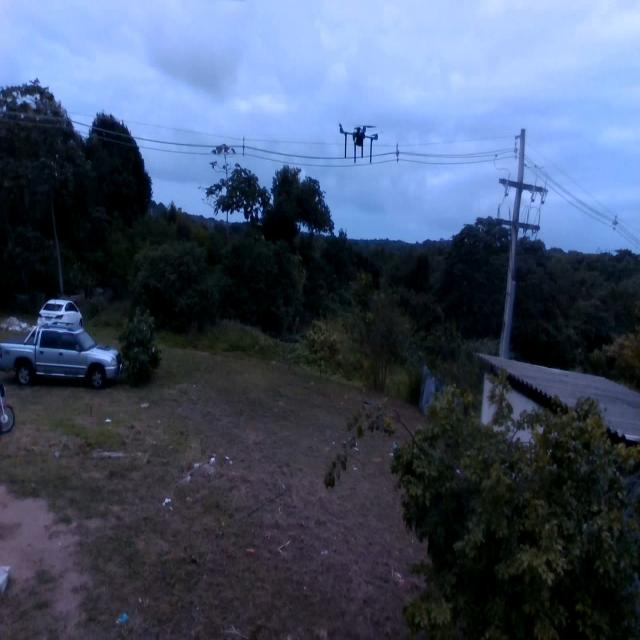-uav-: (332, 98, 392, 186)
